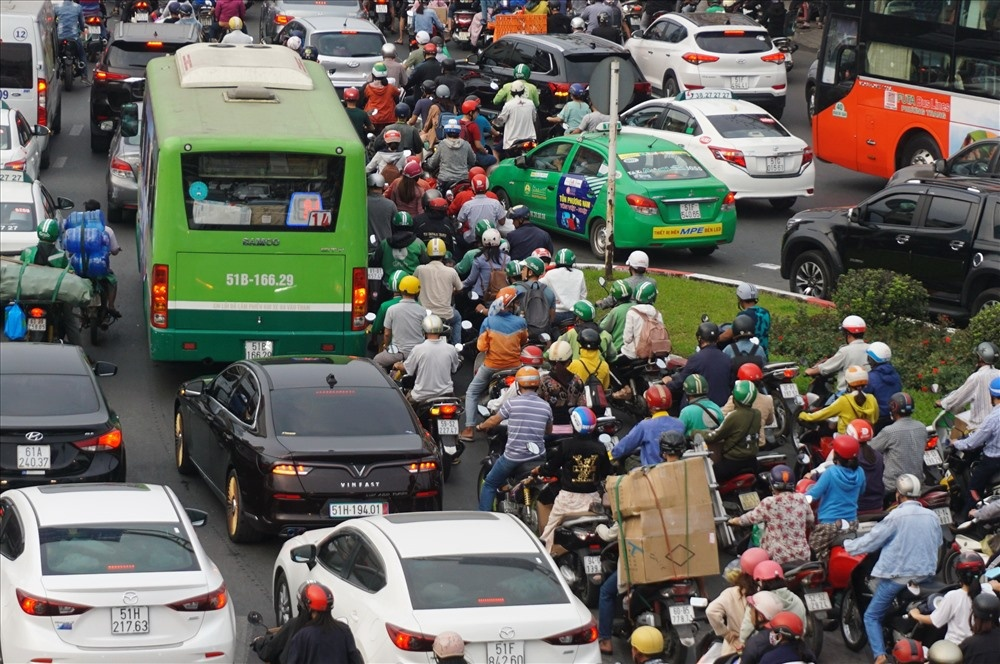Bien-so: (112, 607, 151, 639), (329, 501, 388, 519), (19, 440, 52, 470), (489, 641, 527, 663), (669, 605, 697, 628), (245, 338, 273, 360), (806, 594, 836, 614), (438, 415, 462, 435), (680, 199, 703, 219), (582, 554, 603, 574), (766, 155, 786, 176), (729, 74, 751, 91), (781, 383, 802, 399), (924, 449, 945, 464), (934, 508, 953, 524), (29, 316, 44, 332)
